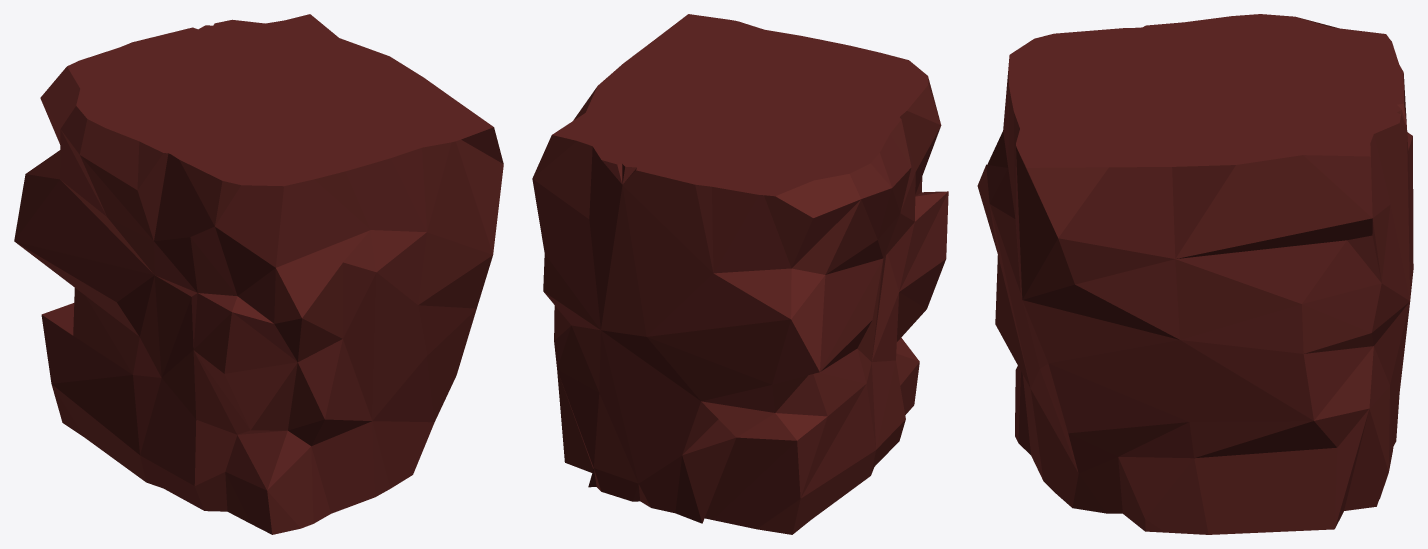
Rendered from Rock_2_1.fbx.
3 renders of one model, left to right at view 1: azimuth 30°, elevation 25°; view 2: azimuth 150°, elevation 25°; view 3: azimuth 270°, elevation 25°, orthographic. The views are drawn at different scales.
Parts seen in each view (by area): view 1: Rock_2_1; view 2: Rock_2_1; view 3: Rock_2_1.
Boxes of the visible parts, bbox=[...] form: Rock_2_1: bbox=[14, 14, 503, 534]; Rock_2_1: bbox=[532, 14, 948, 534]; Rock_2_1: bbox=[977, 14, 1413, 534].
Bounding box in the file's own units: 15.12 × 15 × 15.97.
